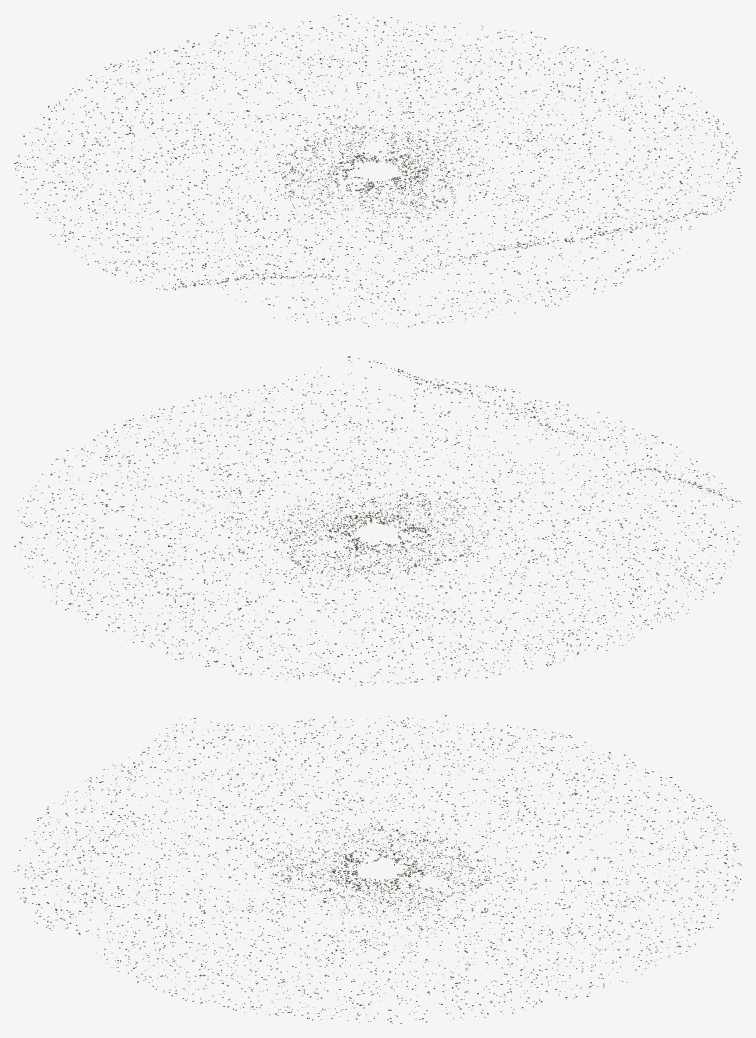
The model's file is traeger_backdrop_part2.glb.
3 renders of one model, top to bottom at view 1: azimuth 30°, elevation 25°; view 2: azimuth 150°, elevation 25°; view 3: azimuth 270°, elevation 25°, orthographic.
Parts seen in each view (by area): view 1: bg_trees_joined_s08, bg_trees_joined_s13, bg_trees_joined_s09, bg_trees_joined_s11, bg_trees_joined_s10, bg_trees_joined_s15, bg_trees_joined_s12, bg_trees_joined_s14; view 2: bg_trees_joined_s08, bg_trees_joined_s10, bg_trees_joined_s13, bg_trees_joined_s11, bg_trees_joined_s09, bg_trees_joined_s15, bg_trees_joined_s12, bg_trees_joined_s14; view 3: bg_trees_joined_s08, bg_trees_joined_s13, bg_trees_joined_s10, bg_trees_joined_s09, bg_trees_joined_s11, bg_trees_joined_s15, bg_trees_joined_s12, bg_trees_joined_s14.
Boxes of the visible parts, <box> form: bg_trees_joined_s08: <box>75,193,347,317</box>; bg_trees_joined_s13: <box>206,14,460,133</box>; bg_trees_joined_s09: <box>287,211,559,327</box>; bg_trees_joined_s11: <box>464,92,741,205</box>; bg_trees_joined_s10: <box>429,182,725,301</box>; bg_trees_joined_s15: <box>14,132,293,246</box>; bg_trees_joined_s12: <box>407,25,685,150</box>; bg_trees_joined_s14: <box>35,40,325,159</box>; bg_trees_joined_s08: <box>464,478,741,606</box>; bg_trees_joined_s10: <box>287,356,548,496</box>; bg_trees_joined_s13: <box>28,545,323,659</box>; bg_trees_joined_s11: <box>66,383,348,512</box>; bg_trees_joined_s09: <box>435,401,726,519</box>; bg_trees_joined_s15: <box>407,554,688,678</box>; bg_trees_joined_s12: <box>14,458,289,571</box>; bg_trees_joined_s14: <box>205,571,467,685</box>; bg_trees_joined_s08: <box>128,716,378,838</box>; bg_trees_joined_s13: <box>456,869,741,974</box>; bg_trees_joined_s10: <box>17,852,305,971</box>; bg_trees_joined_s09: <box>14,760,296,871</box>; bg_trees_joined_s11: <box>128,904,377,1022</box>; bg_trees_joined_s15: <box>378,715,629,839</box>; bg_trees_joined_s12: <box>378,901,627,1023</box>; bg_trees_joined_s14: <box>455,762,741,870</box>.
Bounding box in the file's own units: 5205 × 226 × 5194.
1 material, 1 textured.
